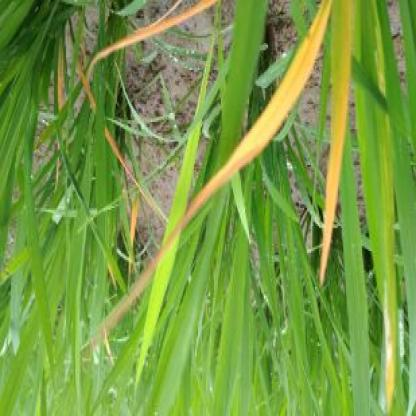Tungro: (314, 1, 361, 289)
